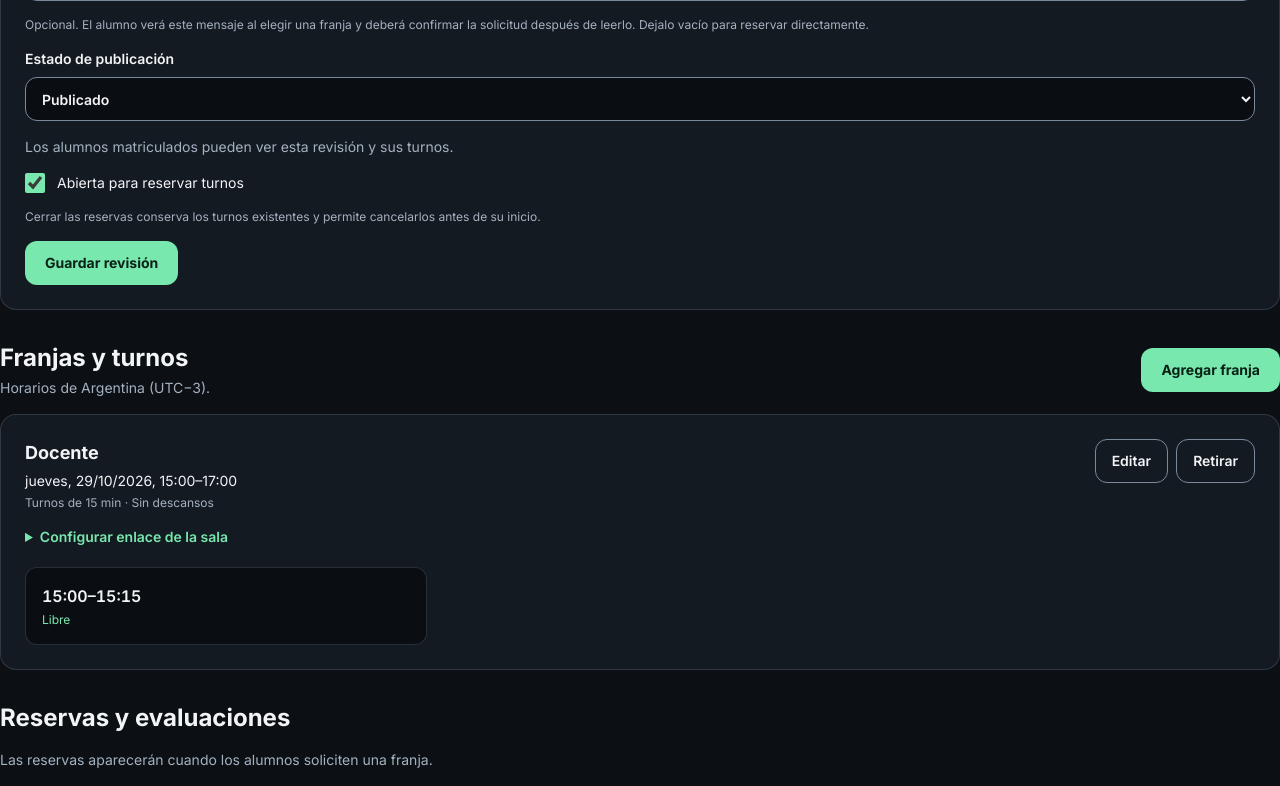
Test: resultado y notas privadas del turno › abre la edición completa en un diálogo con los datos de la franja y permite cerrar
(page scrolled)
Click the button "Editar" at point(1131, 461), box [1095,439,1168,483]
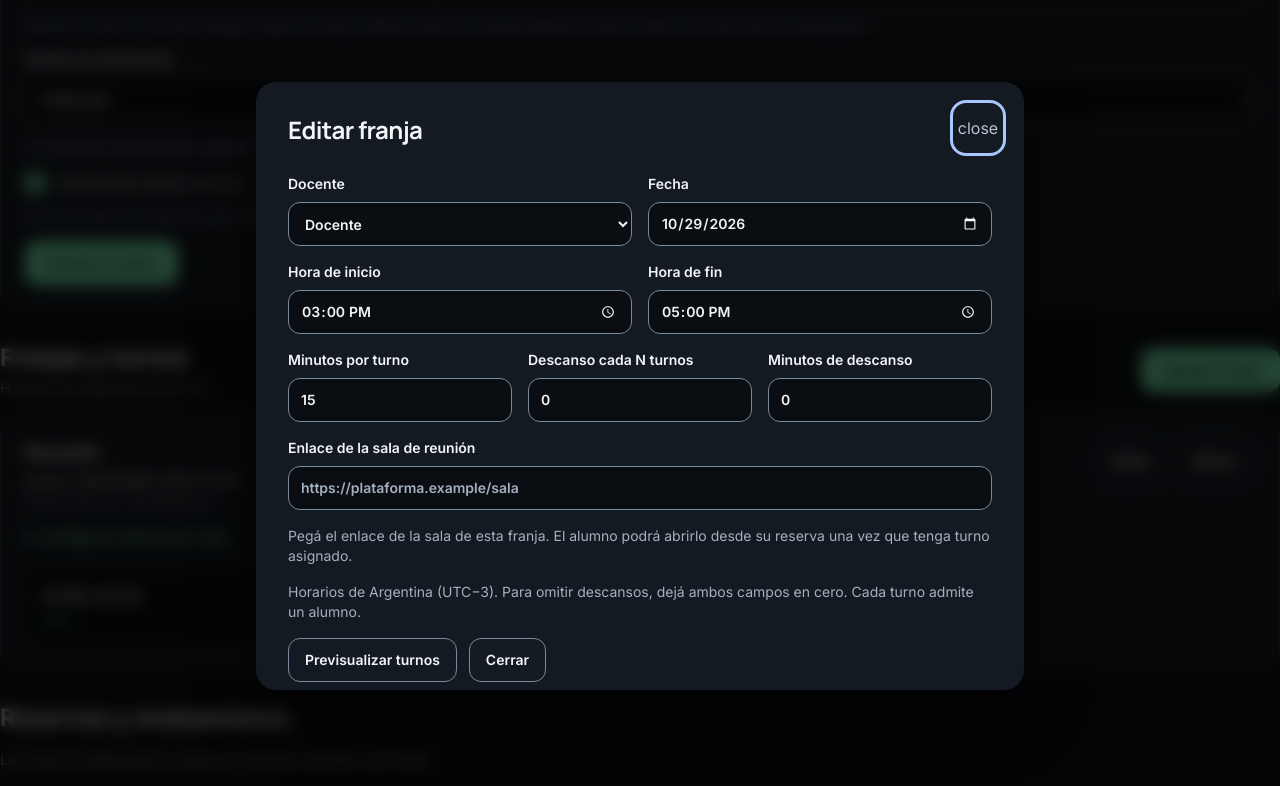
Result: the date field labelled "Fecha" holds "2026-10-29" at [648,202,992,246]
Result: the time field labelled "Hora de inicio" holds "15:00" at [288,290,632,334]
Click the button "Cerrar" at point(508, 660), box [469,638,546,682]
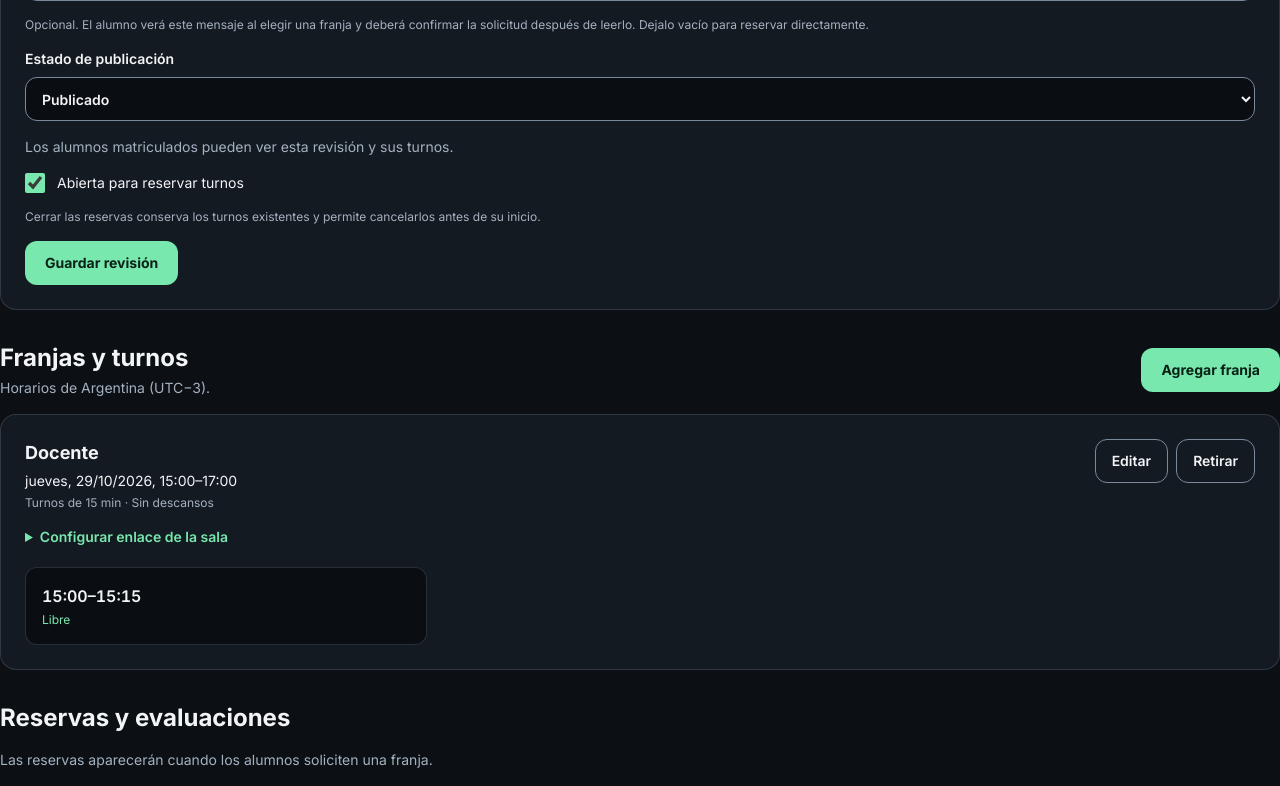
Result: the dialog is gone
